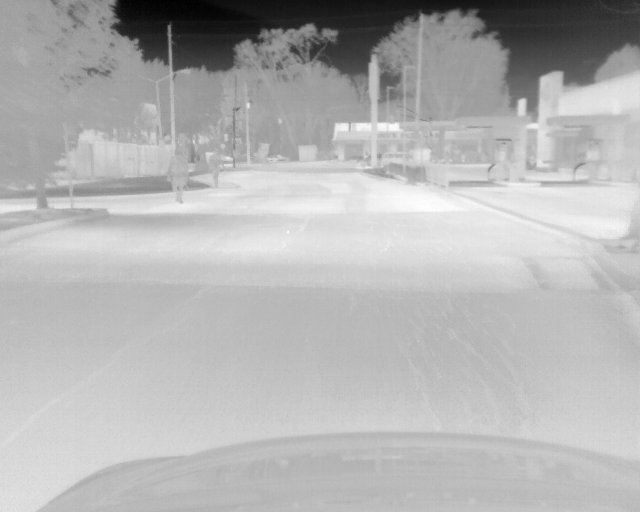car: (379, 149, 415, 171), (266, 153, 289, 163)
people: (167, 148, 189, 205), (208, 149, 223, 188)
